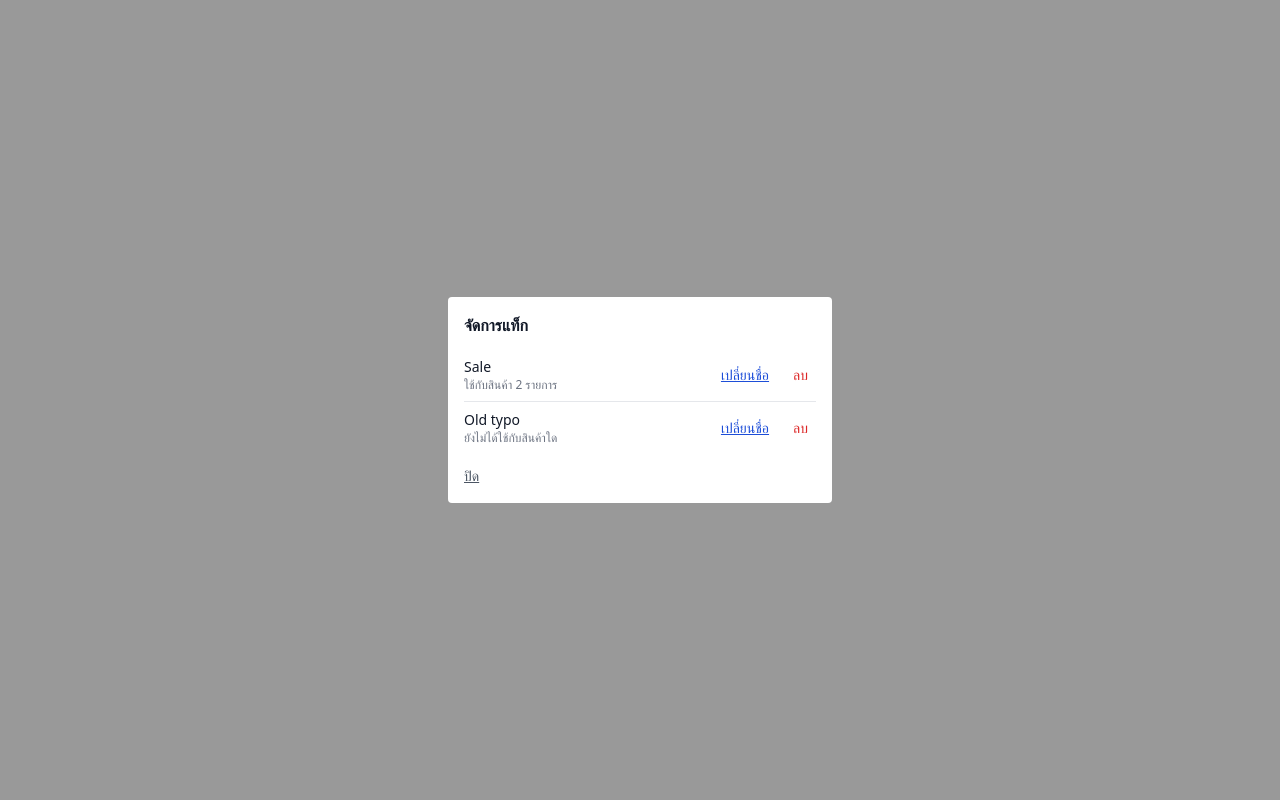
Test: ManageTagsDialog › a refused rename keeps the box open with the message
Click the button "เปลี่ยนชื่อ" next to "ใช้กับสินค้า 2 รายการ" at coordinates (745, 375), box [713,357,777,393]
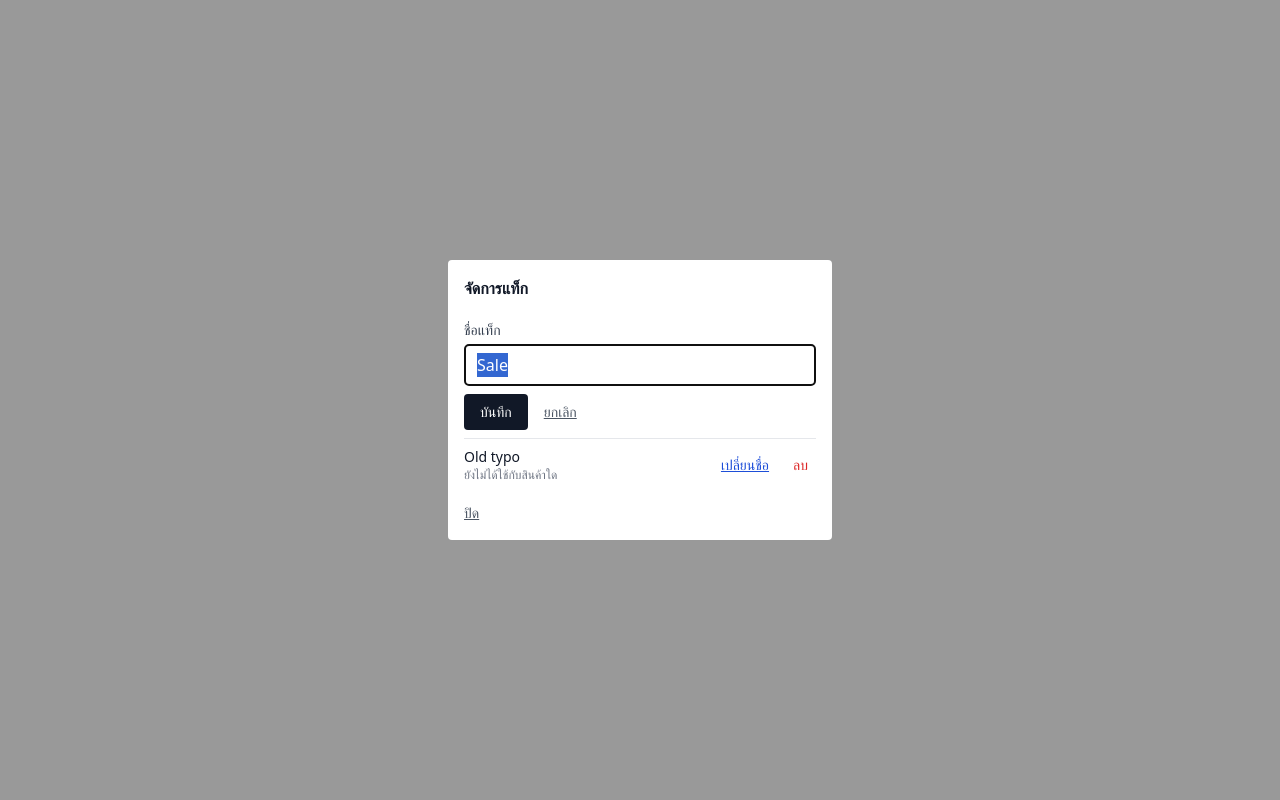
Replace the text in the field labelled "ชื่อแท็ก" with "old TYPO" at coordinates (640, 365), box [464,344,816,386]
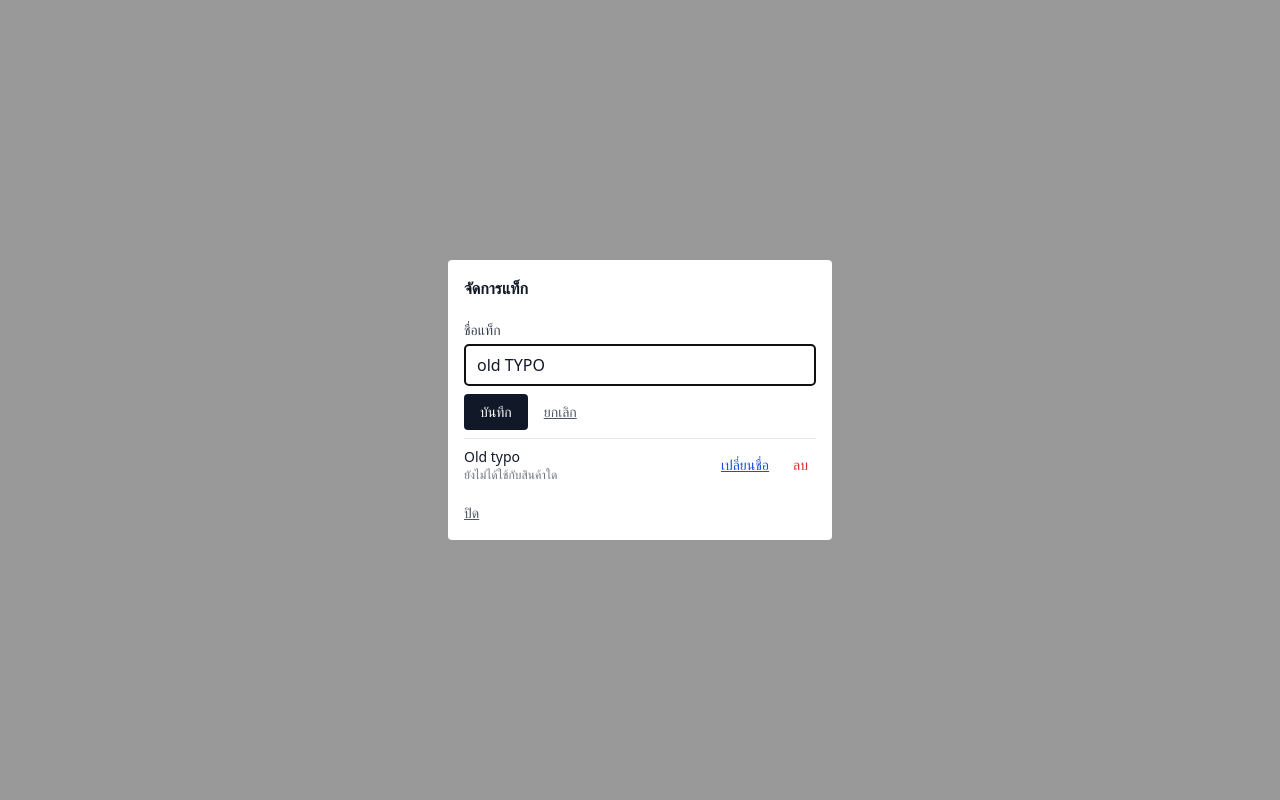
Submit the form labelled "ชื่อแท็ก", box [464,320,816,430]
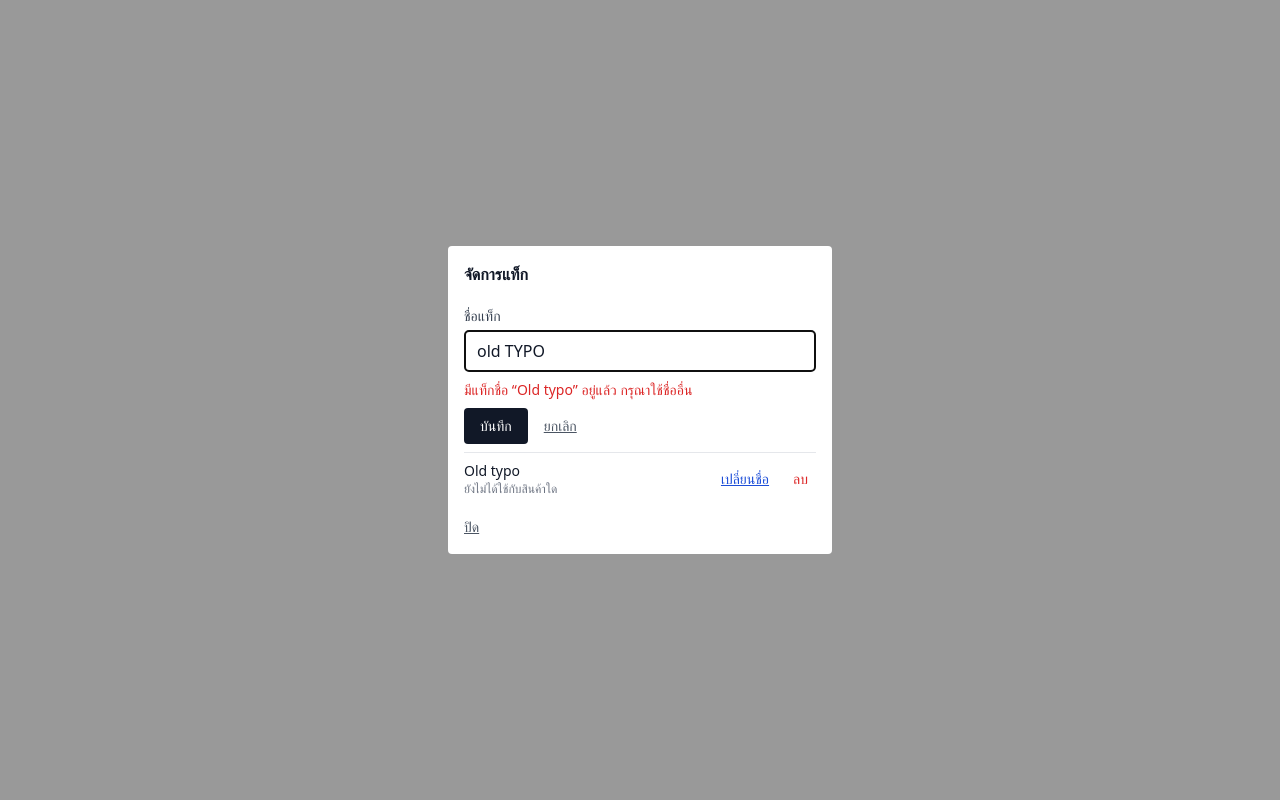
Expected: the message shows "Old typo", [464,380,692,399]
